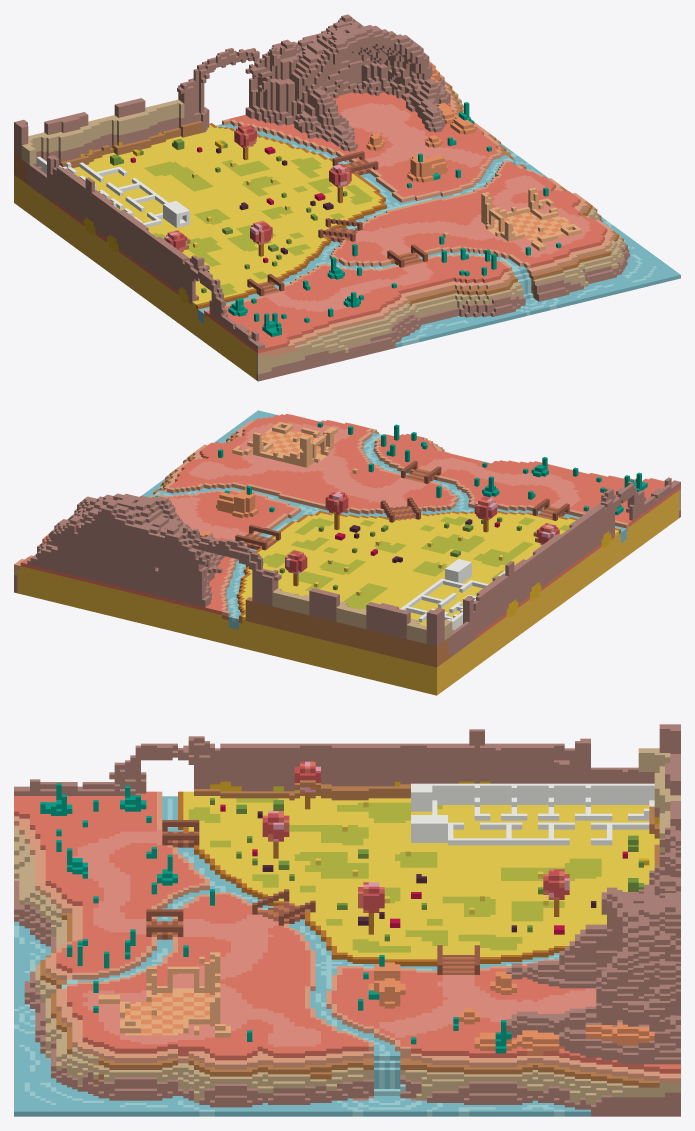
Rendered from mainland mk3.obj.
3 views of the same model, one above another, from view 1: azimuth 30°, elevation 25°; view 2: azimuth 150°, elevation 25°; view 3: azimuth 270°, elevation 25° (orthographic). The views are drawn at different scales.
Size of the model in its own units: 126 by 31 by 126.
